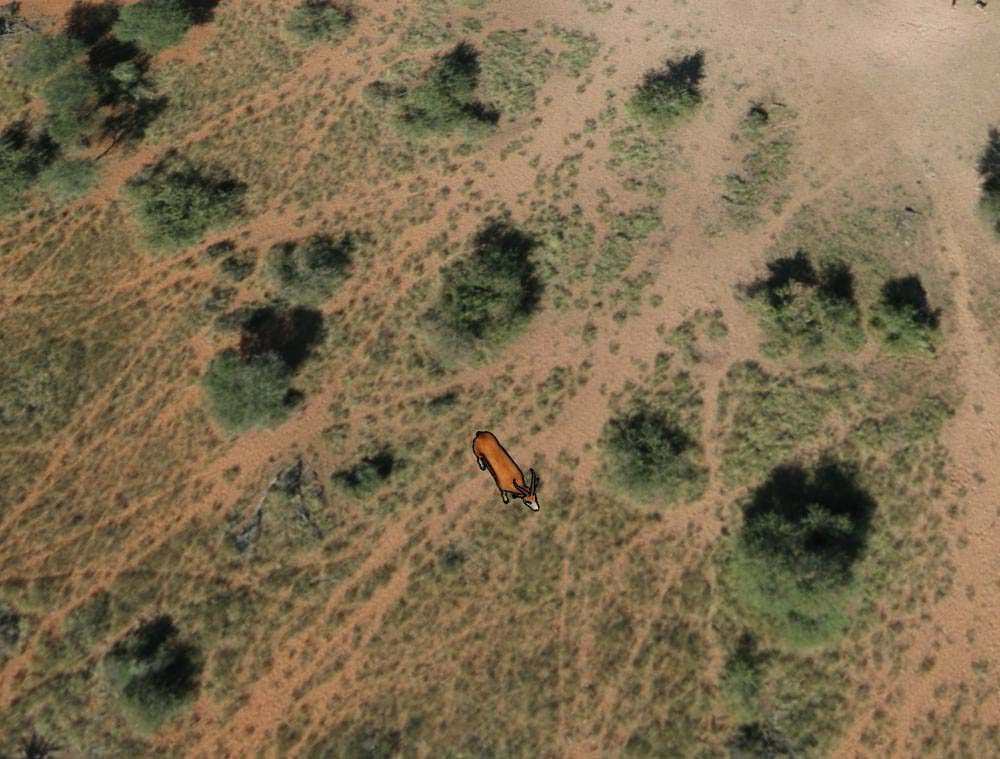springbok: (468, 423, 544, 518)
